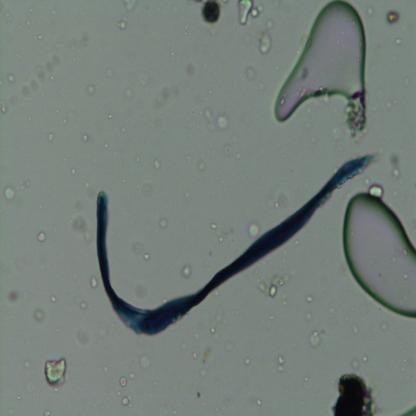Air bubble: (273, 1, 371, 138), (344, 192, 416, 320)
Background material: (95, 148, 378, 335), (0, 55, 61, 112), (330, 370, 377, 415), (42, 356, 70, 390), (256, 272, 285, 298), (124, 72, 150, 101), (223, 130, 246, 159), (203, 108, 229, 133), (71, 214, 92, 244), (236, 0, 260, 26), (116, 2, 138, 30), (258, 17, 274, 55), (200, 0, 223, 26), (4, 286, 24, 308), (157, 86, 176, 108), (389, 152, 402, 183), (74, 25, 90, 49), (132, 242, 151, 262), (366, 180, 384, 200), (306, 327, 322, 348), (18, 171, 33, 193), (82, 175, 97, 196), (2, 184, 16, 206), (211, 221, 223, 245), (210, 316, 221, 341), (273, 189, 288, 207), (137, 353, 151, 372), (244, 64, 257, 84), (30, 308, 46, 324), (141, 183, 155, 200), (248, 219, 259, 239), (201, 346, 213, 364), (384, 94, 395, 112), (183, 59, 194, 77), (399, 345, 407, 369), (35, 228, 47, 244), (386, 10, 400, 23), (3, 10, 15, 25), (400, 404, 416, 415), (276, 356, 287, 372), (349, 356, 360, 372), (75, 297, 88, 310), (158, 216, 170, 230), (352, 319, 361, 337), (89, 274, 99, 290), (224, 338, 235, 352), (379, 317, 388, 333), (86, 82, 96, 96), (121, 394, 131, 408), (105, 65, 115, 79), (198, 159, 207, 174), (299, 372, 310, 384), (48, 292, 58, 305), (152, 158, 162, 171), (192, 325, 200, 341), (401, 243, 410, 257), (182, 264, 191, 278), (178, 338, 187, 352), (126, 369, 138, 379), (116, 126, 128, 136), (305, 307, 313, 321), (7, 72, 15, 86), (200, 366, 210, 377), (243, 356, 252, 368), (48, 8, 61, 16), (45, 132, 55, 142), (81, 135, 90, 146), (119, 376, 127, 388), (360, 353, 369, 363), (192, 349, 200, 360), (183, 22, 189, 36), (71, 273, 79, 283), (312, 134, 318, 146), (195, 388, 202, 398), (402, 272, 410, 280), (36, 32, 44, 40), (103, 140, 110, 149), (307, 294, 314, 303), (70, 167, 76, 177), (394, 39, 404, 45), (256, 398, 262, 408), (107, 113, 114, 121), (269, 313, 275, 321), (28, 115, 34, 123), (170, 48, 175, 57), (393, 256, 399, 263), (160, 296, 167, 302), (106, 366, 108, 374)
